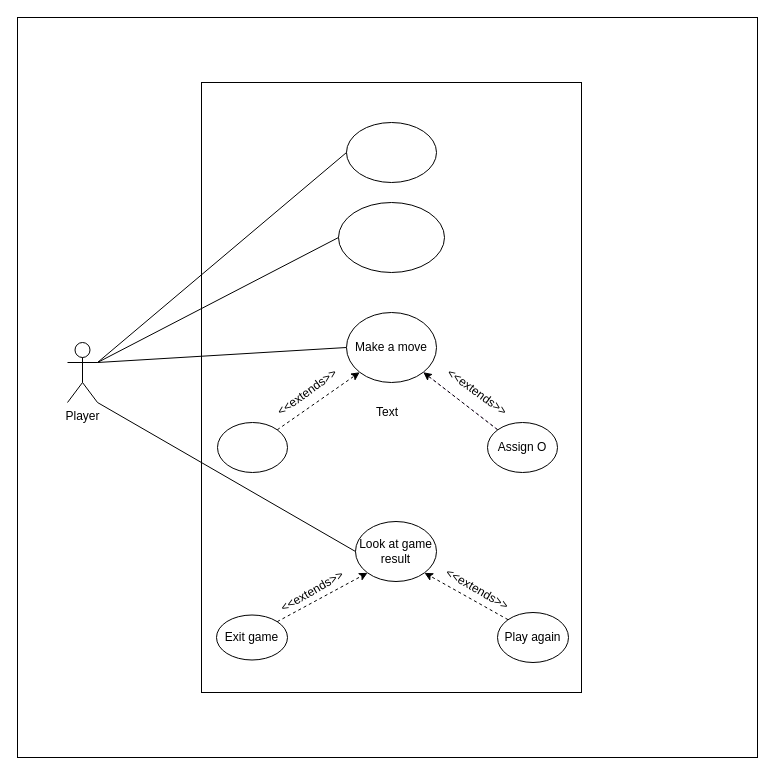
Image size: 775x775. Some labels were removed from this diagram. The shapes that lost their labels are listed below. From the top down, each one's centre as x and y in pixels, then its label:
(391,152): Start Game
(391,237): Input player name
(252,447): Assign X
